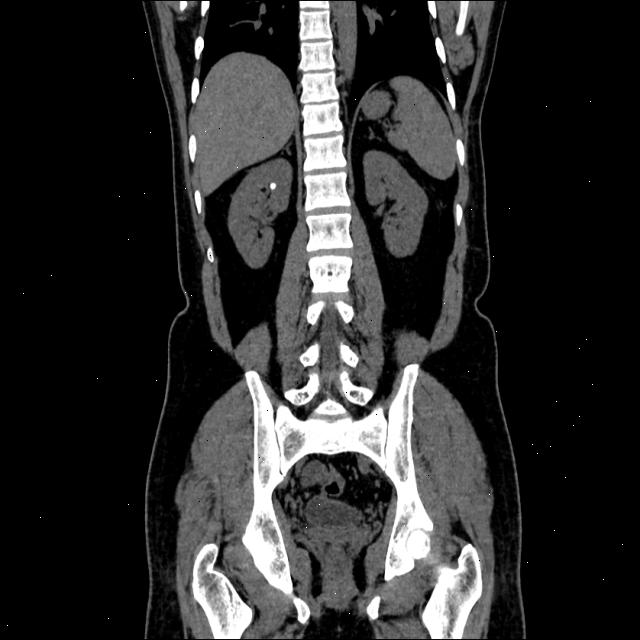kidneystone: (270, 182, 276, 189)
